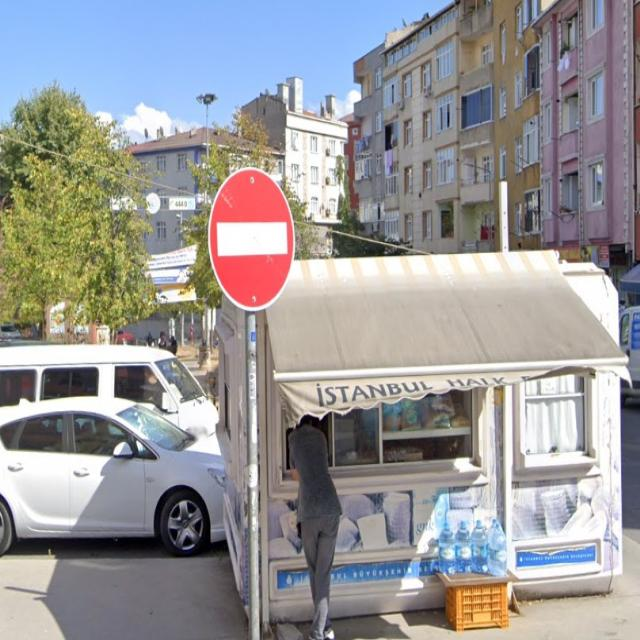girisyok: (208, 167, 296, 307)
